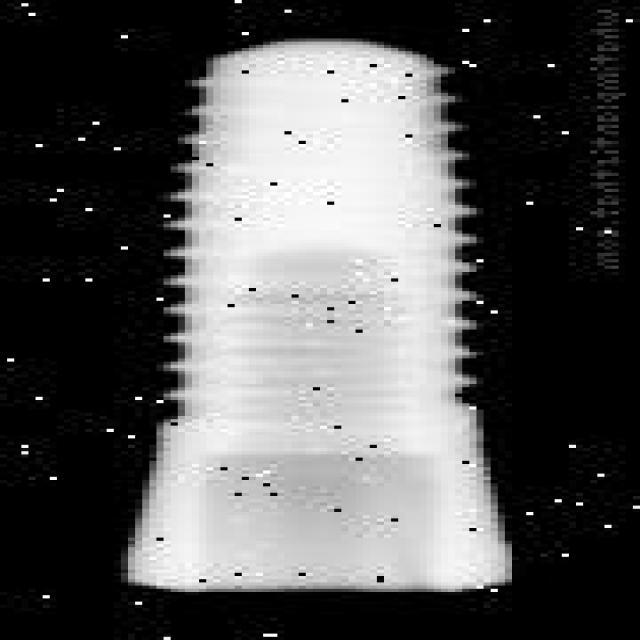Leone Implant: (121, 35, 512, 592)
